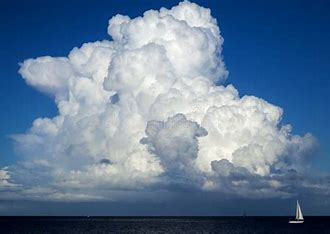Cumulus: (13, 2, 330, 182)
